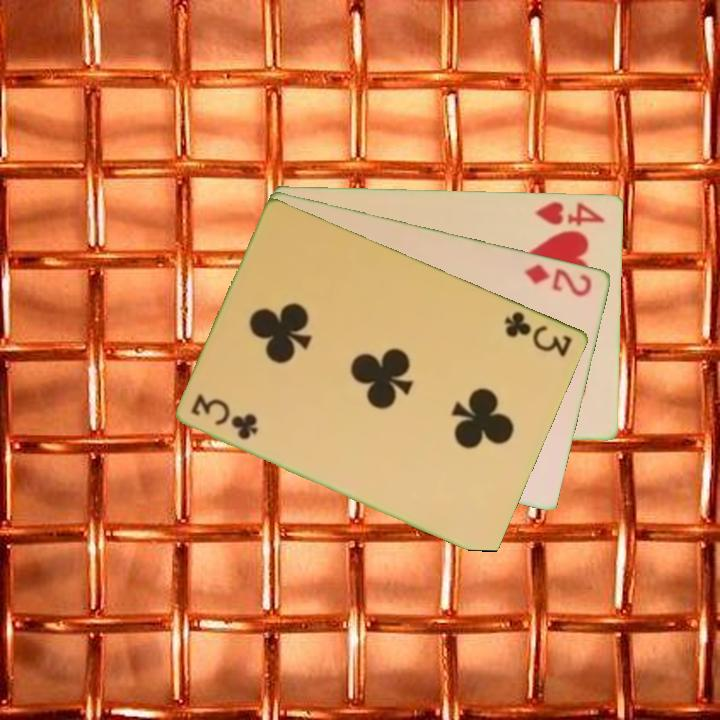2d: (521, 260, 595, 299)
3c: (501, 307, 576, 360), (188, 392, 262, 443)
4h: (532, 197, 608, 229)
